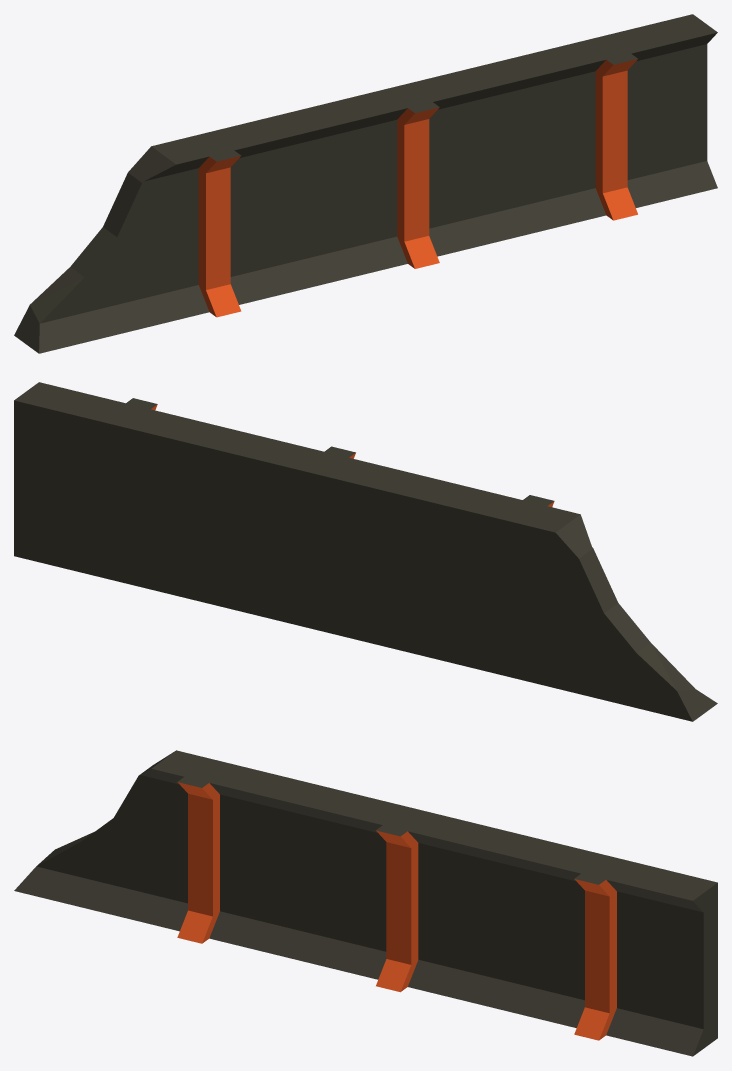
The model's file is CrackedWallLong01.fbx.
The picture shows the model from 3 angles, top to bottom: view 1: azimuth 30°, elevation 25°; view 2: azimuth 150°, elevation 25°; view 3: azimuth 330°, elevation 25°; orthographic projection.
Parts seen in each view (by area): view 1: CrackedWallLong; view 2: CrackedWallLong; view 3: CrackedWallLong.
Boxes of the visible parts, box(x1,y1,x2,y2) form: CrackedWallLong: box(14, 14, 717, 353); CrackedWallLong: box(14, 382, 717, 721); CrackedWallLong: box(14, 750, 717, 1056).
Bounding box in the file's own units: 1369 × 300 × 113.
